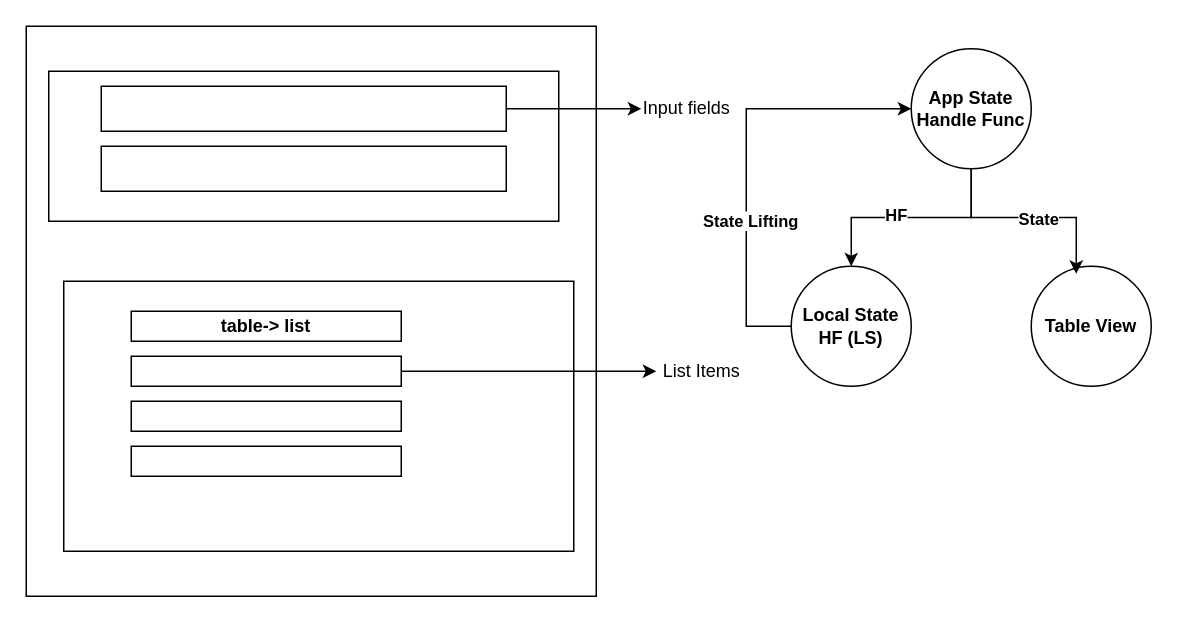
Some shapes in this 1178 by 623 pixel diagram are drawn without their labels. The centre of each missing label's shape, as x and y in pixels:
"Form -> input" goes at pixel 303 108.
"Output" goes at pixel 265 370.
